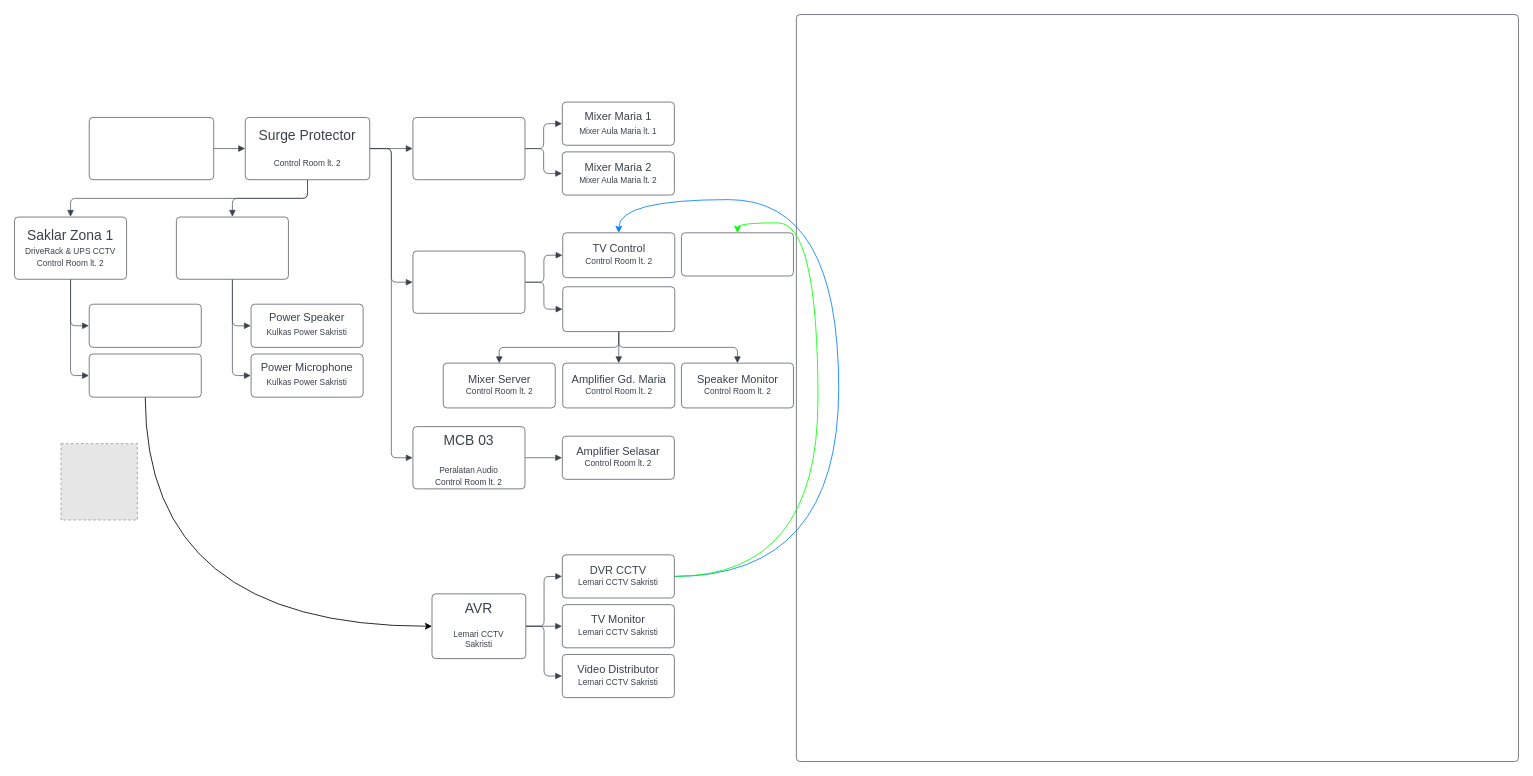
Some shapes in this 1533 by 776 pixel diagram are drawn without their labels. Grey dashed boxes stand in for pictures. Here are the shapes that lost their labels. From the top down, the centre of each, then its label:
At point (151, 148): "AVR (Audio Visual) Ruang Panel lt. 1".
At point (468, 148): "MCB 01 Mixer Aula Maria Control Room lt. 2".
At point (232, 247): "Saklar Zona 2 Power & Mic Gereja Control Room lt. 2".
At point (737, 254): "Joystick Controller Lemari CCTV Sakristi".
At point (468, 281): "MCB 02 Peralatan Visual Control Room lt. 2".
At point (144, 325): "DriveRack Speaker Kulkas Power Sakristi".
At point (618, 309): "UPS Sound System Control Room lt. 2".
At point (144, 375): "UPS CCTV Sakristi".
